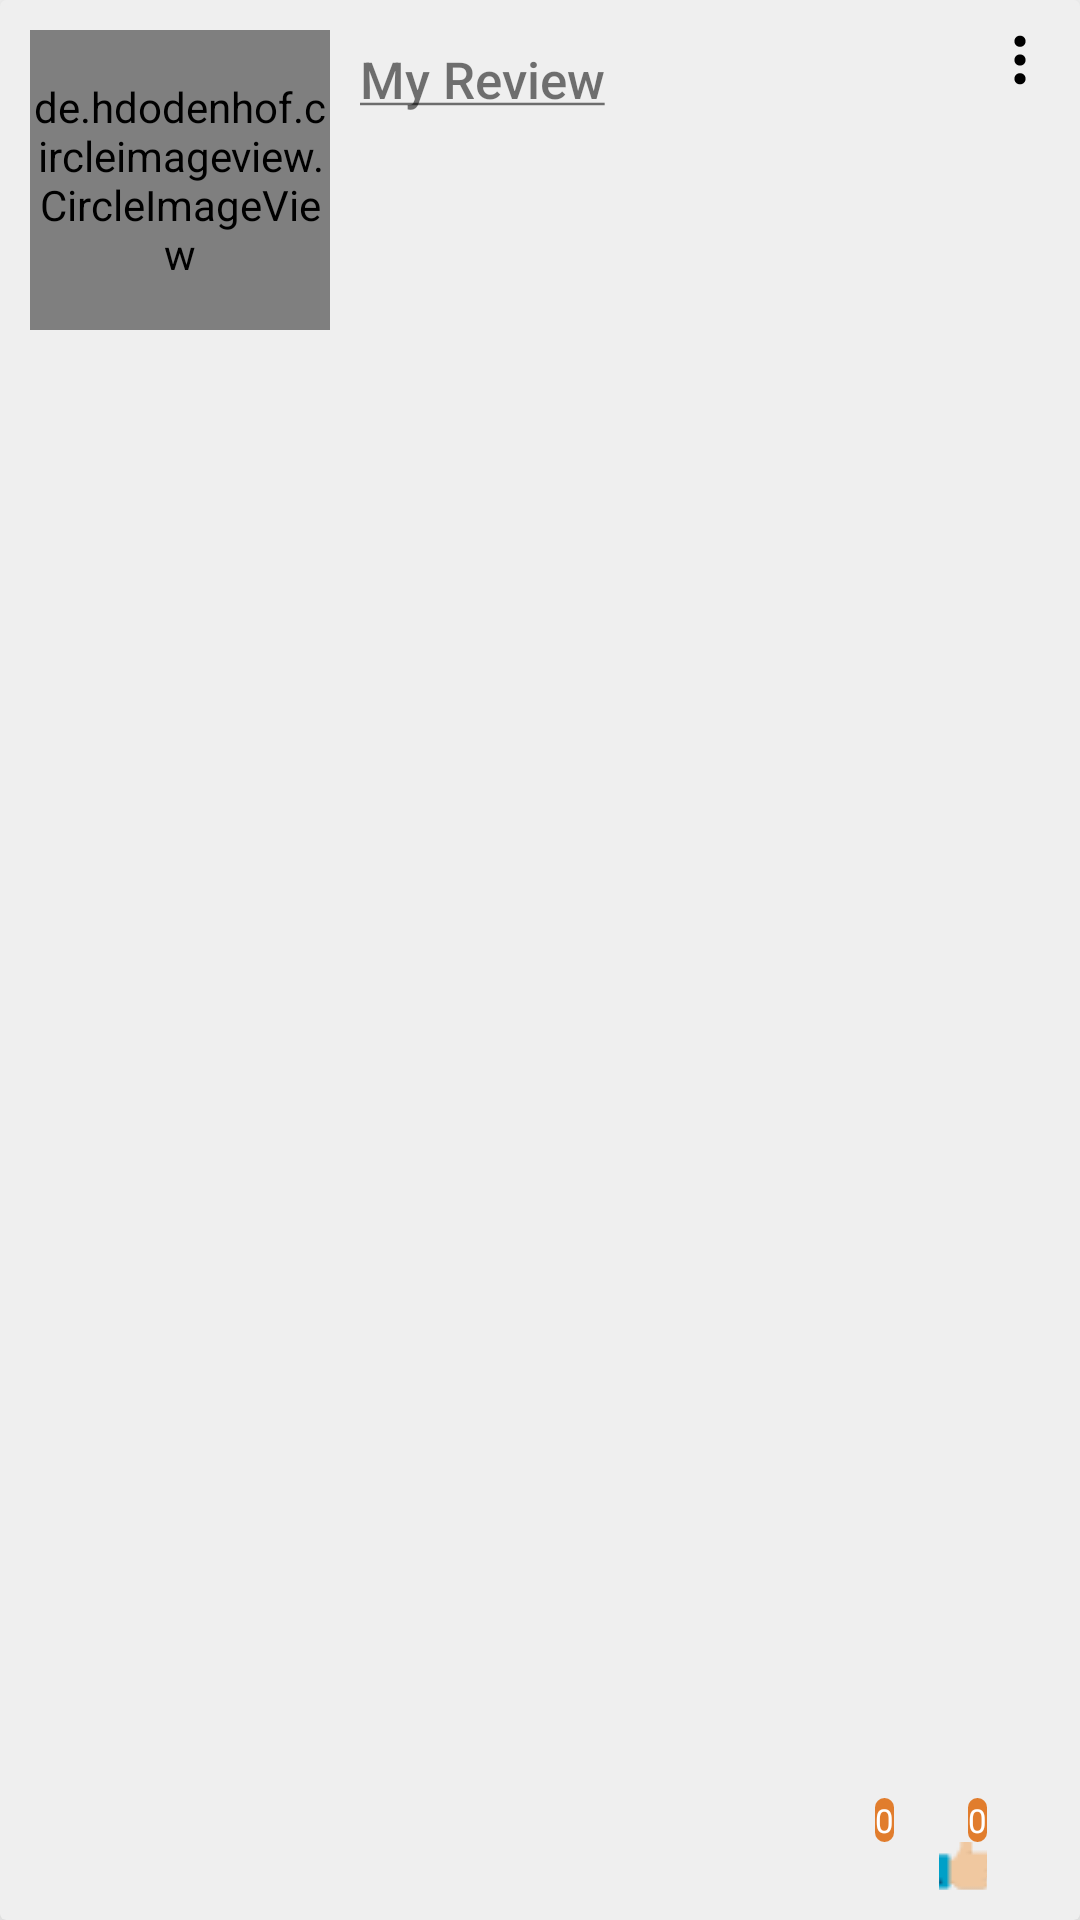

Where icons sit on this 1080×1920 app screen, as {"left": x1, "top": y1, "right": x2, "bottom": y2}:
like: {"left": 939, "top": 1842, "right": 987, "bottom": 1890}
more vertical view: {"left": 1014, "top": 35, "right": 1026, "bottom": 85}
